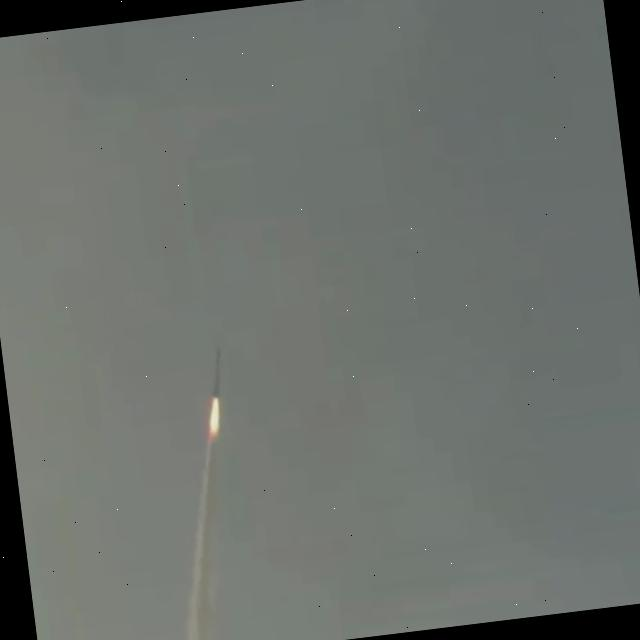smoke_trail_with_rocket: (184, 347, 224, 640)
